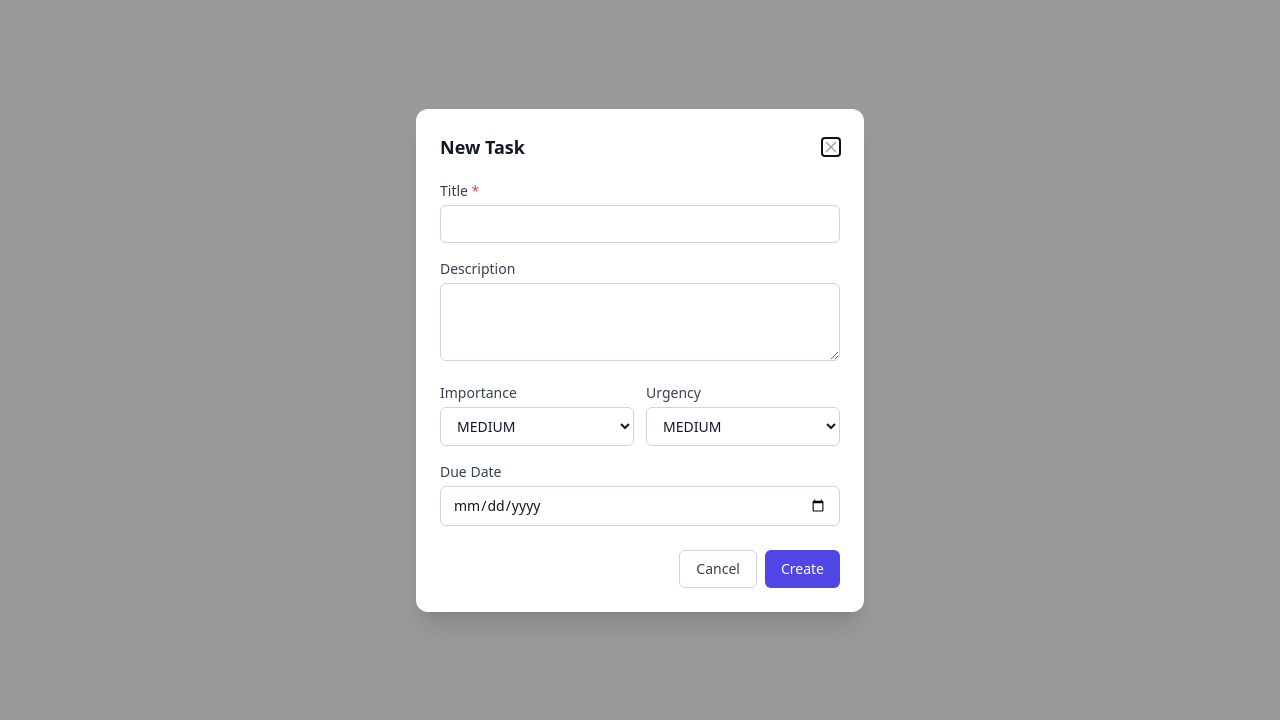
TaskDialog — create mode › shows a validation error when submitted with empty title
The width and height of the screenshot is (1280, 720).
Click the button "Create".
click(802, 568)  # box [765,550,840,588]
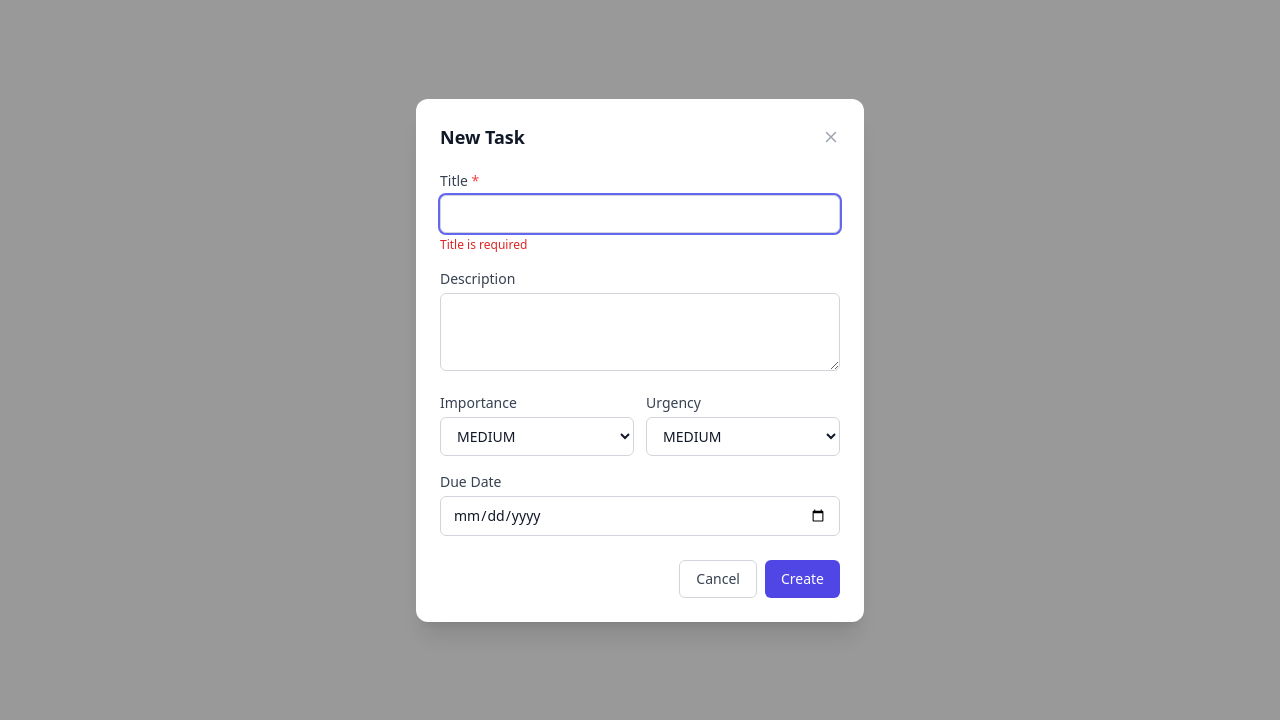
Check: the message shows "required", box [440,236,527,252]
